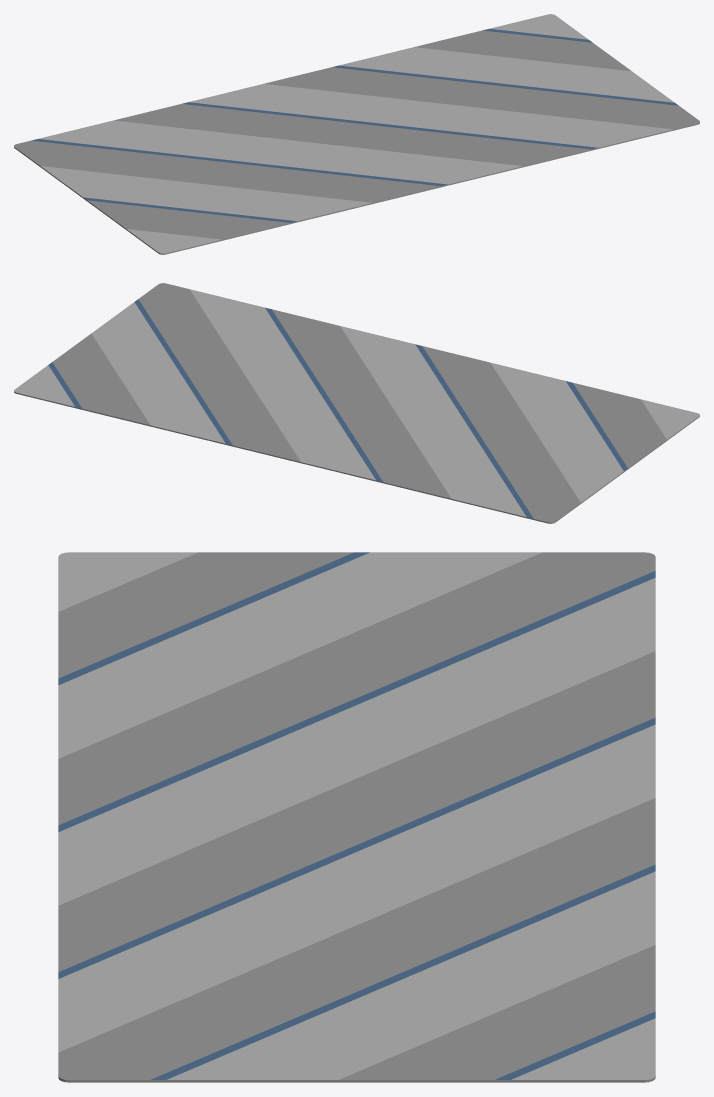
3 renders of one model, top to bottom at view 1: azimuth 30°, elevation 25°; view 2: azimuth 150°, elevation 25°; view 3: azimuth 270°, elevation 25°, orthographic. The views are drawn at different scales.
Visible parts, largest first — view 1: world; view 2: world; view 3: world.
Boxes of the visible parts, x1=… form: world: x1=14, y1=14, x2=699, y2=254; world: x1=14, y1=283, x2=699, y2=523; world: x1=58, y1=552, x2=655, y2=1082.
Bounding box in the file's own units: 0.046 × 0.0001 × 0.022.
